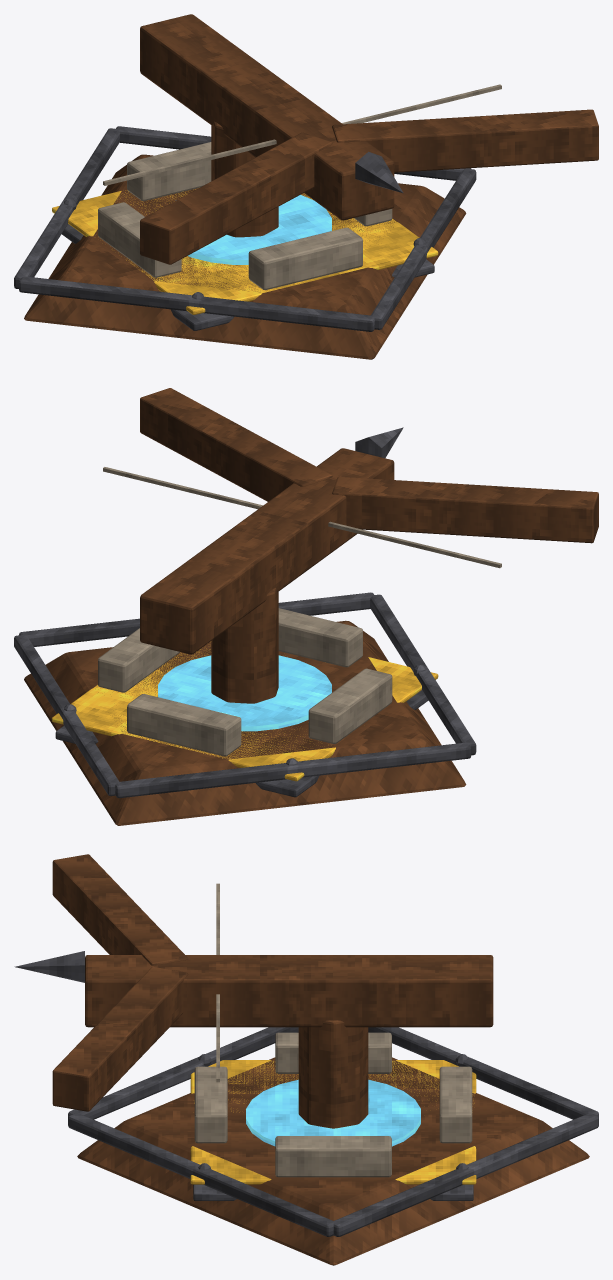
File: top_triangle.gltf
The picture shows the model from 3 angles, top to bottom: view 1: azimuth 30°, elevation 25°; view 2: azimuth 150°, elevation 25°; view 3: azimuth 270°, elevation 25°; orthographic projection.
Visible parts, largest first — view 1: Crown_wood, Crown_iron, Tier3_stone_lite, Tier4_gold, Tier4_rune, Crown_stone_lite, Tier2_iron; view 2: Crown_wood, Crown_iron, Tier3_stone_lite, Tier4_rune, Tier4_gold, Crown_stone_lite, Tier2_iron; view 3: Crown_wood, Crown_iron, Tier3_stone_lite, Tier4_rune, Tier4_gold, Tier2_iron, Crown_stone_lite.
Boxes of the visible parts, bbox=[...] form: Crown_wood: bbox=[24, 14, 598, 359]; Crown_iron: bbox=[14, 126, 476, 331]; Tier3_stone_lite: bbox=[98, 142, 392, 290]; Tier4_gold: bbox=[52, 189, 438, 314]; Tier4_rune: bbox=[188, 194, 331, 264]; Crown_stone_lite: bbox=[103, 84, 501, 185]; Tier2_iron: bbox=[62, 198, 434, 330]; Crown_wood: bbox=[24, 388, 598, 825]; Crown_iron: bbox=[14, 427, 476, 798]; Tier3_stone_lite: bbox=[98, 608, 392, 756]; Tier4_rune: bbox=[158, 655, 331, 731]; Tier4_gold: bbox=[52, 648, 438, 781]; Crown_stone_lite: bbox=[103, 467, 501, 568]; Tier2_iron: bbox=[55, 664, 428, 797]; Crown_wood: bbox=[52, 854, 589, 1265]; Crown_iron: bbox=[14, 951, 598, 1236]; Tier3_stone_lite: bbox=[194, 1032, 472, 1177]; Tier4_rune: bbox=[246, 1079, 420, 1146]; Tier4_gold: bbox=[190, 1060, 476, 1184]; Tier2_iron: bbox=[193, 1054, 473, 1200]; Crown_stone_lite: bbox=[216, 883, 219, 1082].
Bounding box in the file's own units: 1.14 × 0.489 × 1.25.
5 materials, 5 textured.
